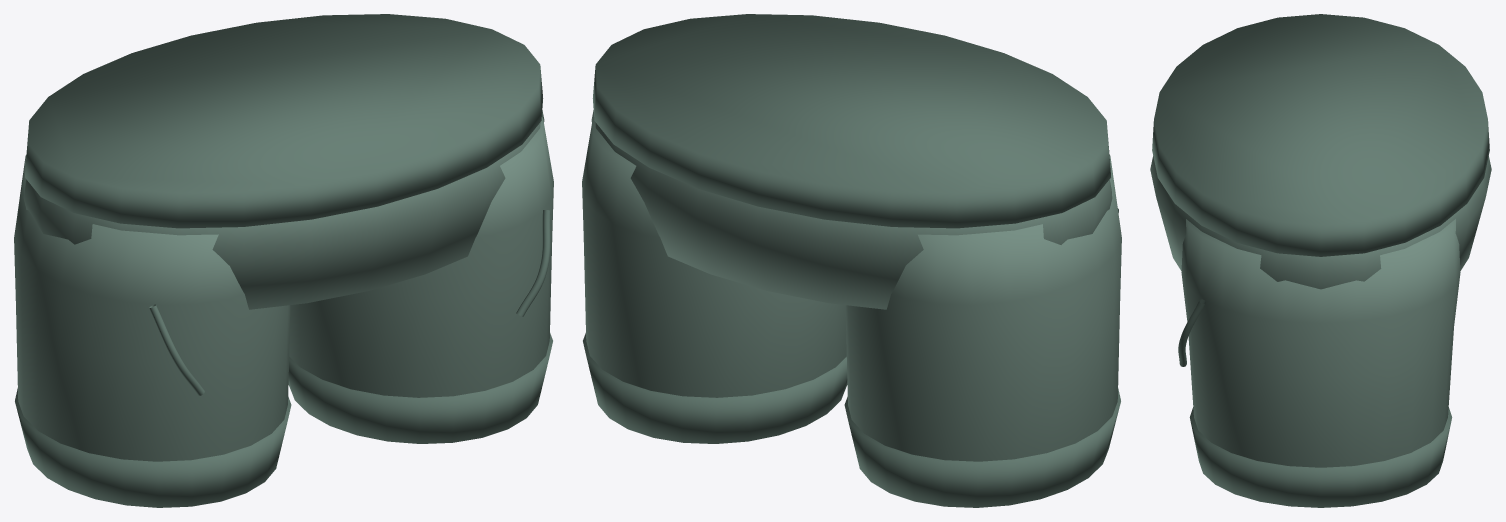
The model's file is shorts.glb.
3 renders of one model, left to right at view 1: azimuth 30°, elevation 25°; view 2: azimuth 150°, elevation 25°; view 3: azimuth 270°, elevation 25°, orthographic. The views are drawn at different scales.
Parts seen in each view (by area): view 1: waistband, pantLegL, pantLegR, waist, hemL, hemR, pocketSeamR, pocketSeamL; view 2: waistband, pantLegL, pantLegR, waist, hemL, hemR; view 3: waistband, pantLegR, hemR, waist, pocketSeamR.
Boxes of the visible parts, x1=… form: waistband: x1=25, y1=14, x2=543, y2=228; pantLegL: x1=14, y1=155, x2=290, y2=461; pantLegR: x1=289, y1=117, x2=553, y2=397; waist: x1=23, y1=110, x2=544, y2=309; hemL: x1=15, y1=388, x2=291, y2=507; hemR: x1=288, y1=333, x2=552, y2=443; pocketSeamR: x1=516, y1=210, x2=550, y2=316; pocketSeamL: x1=149, y1=304, x2=204, y2=395; waistband: x1=592, y1=14, x2=1110, y2=228; pantLegL: x1=845, y1=155, x2=1121, y2=461; pantLegR: x1=582, y1=117, x2=846, y2=397; waist: x1=591, y1=110, x2=1112, y2=309; hemL: x1=844, y1=388, x2=1120, y2=507; hemR: x1=583, y1=333, x2=847, y2=443; waistband: x1=1152, y1=14, x2=1489, y2=256; pantLegR: x1=1181, y1=219, x2=1460, y2=467; hemR: x1=1189, y1=407, x2=1452, y2=507; waist: x1=1150, y1=156, x2=1491, y2=289; pocketSeamR: x1=1178, y1=299, x2=1205, y2=366.
Size of the model in its own units: 0.562 by 0.342 by 0.372.
